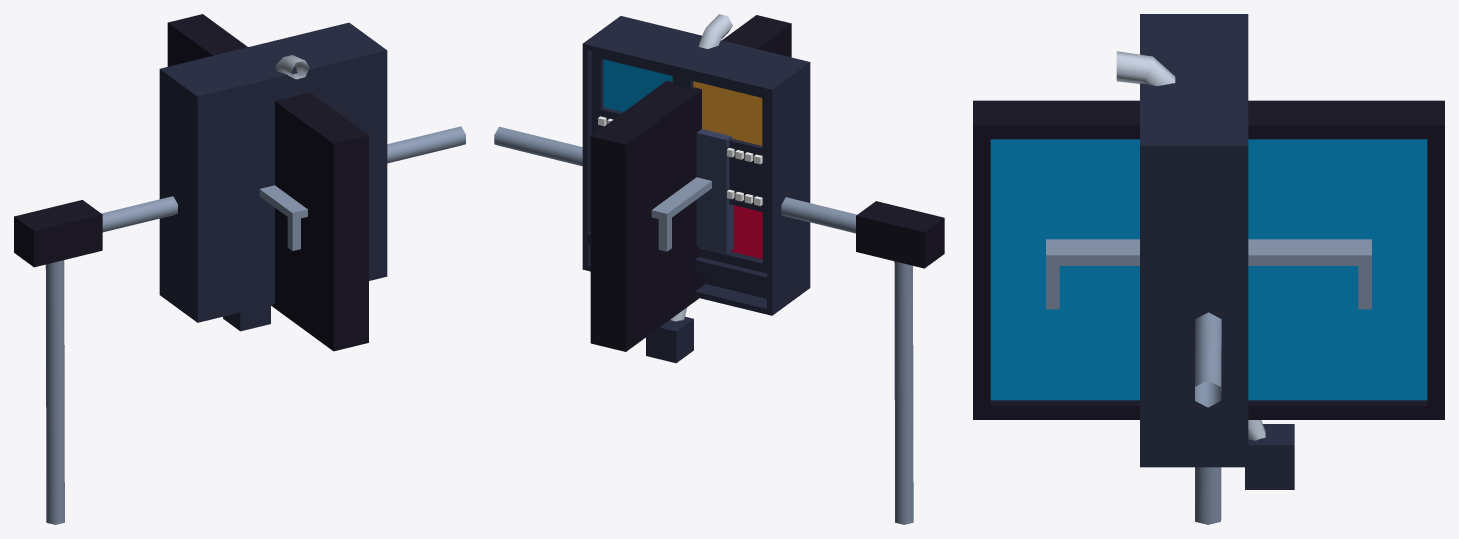
File: time0.glb
3 renders of one model, left to right at view 1: azimuth 30°, elevation 25°; view 2: azimuth 150°, elevation 25°; view 3: azimuth 270°, elevation 25°, orthographic. The views are drawn at different scales.
Visible parts, largest first — view 1: MachineThing.001, Screen.001, AngledPipes, BackPipe, Table; view 2: MachineThing.001, Screen.001, AngledPipes, Cabinet, BackPipe, Table; view 3: Screen.001, MachineThing.001, Table, BackPipe, AngledPipes.
Boxes of the visible parts, box(x1,y1,x2,y2) form: MachineThing.001: box(159, 22, 387, 322); Screen.001: box(167, 14, 368, 351); AngledPipes: box(14, 126, 465, 524); BackPipe: box(223, 55, 309, 331); Table: box(259, 185, 307, 250); MachineThing.001: box(582, 16, 810, 315); Screen.001: box(590, 15, 791, 351); AngledPipes: box(494, 126, 944, 524); Cabinet: box(696, 129, 733, 253); BackPipe: box(646, 14, 732, 363); Table: box(651, 177, 711, 251); Screen.001: box(973, 100, 1444, 419); MachineThing.001: box(1140, 14, 1248, 467); Table: box(1046, 239, 1371, 309); BackPipe: box(1116, 51, 1294, 489); AngledPipes: box(1195, 312, 1221, 524).
Size of the model in its own units: 13.23 by 12.47 by 8.71.
1 material, 1 textured.
